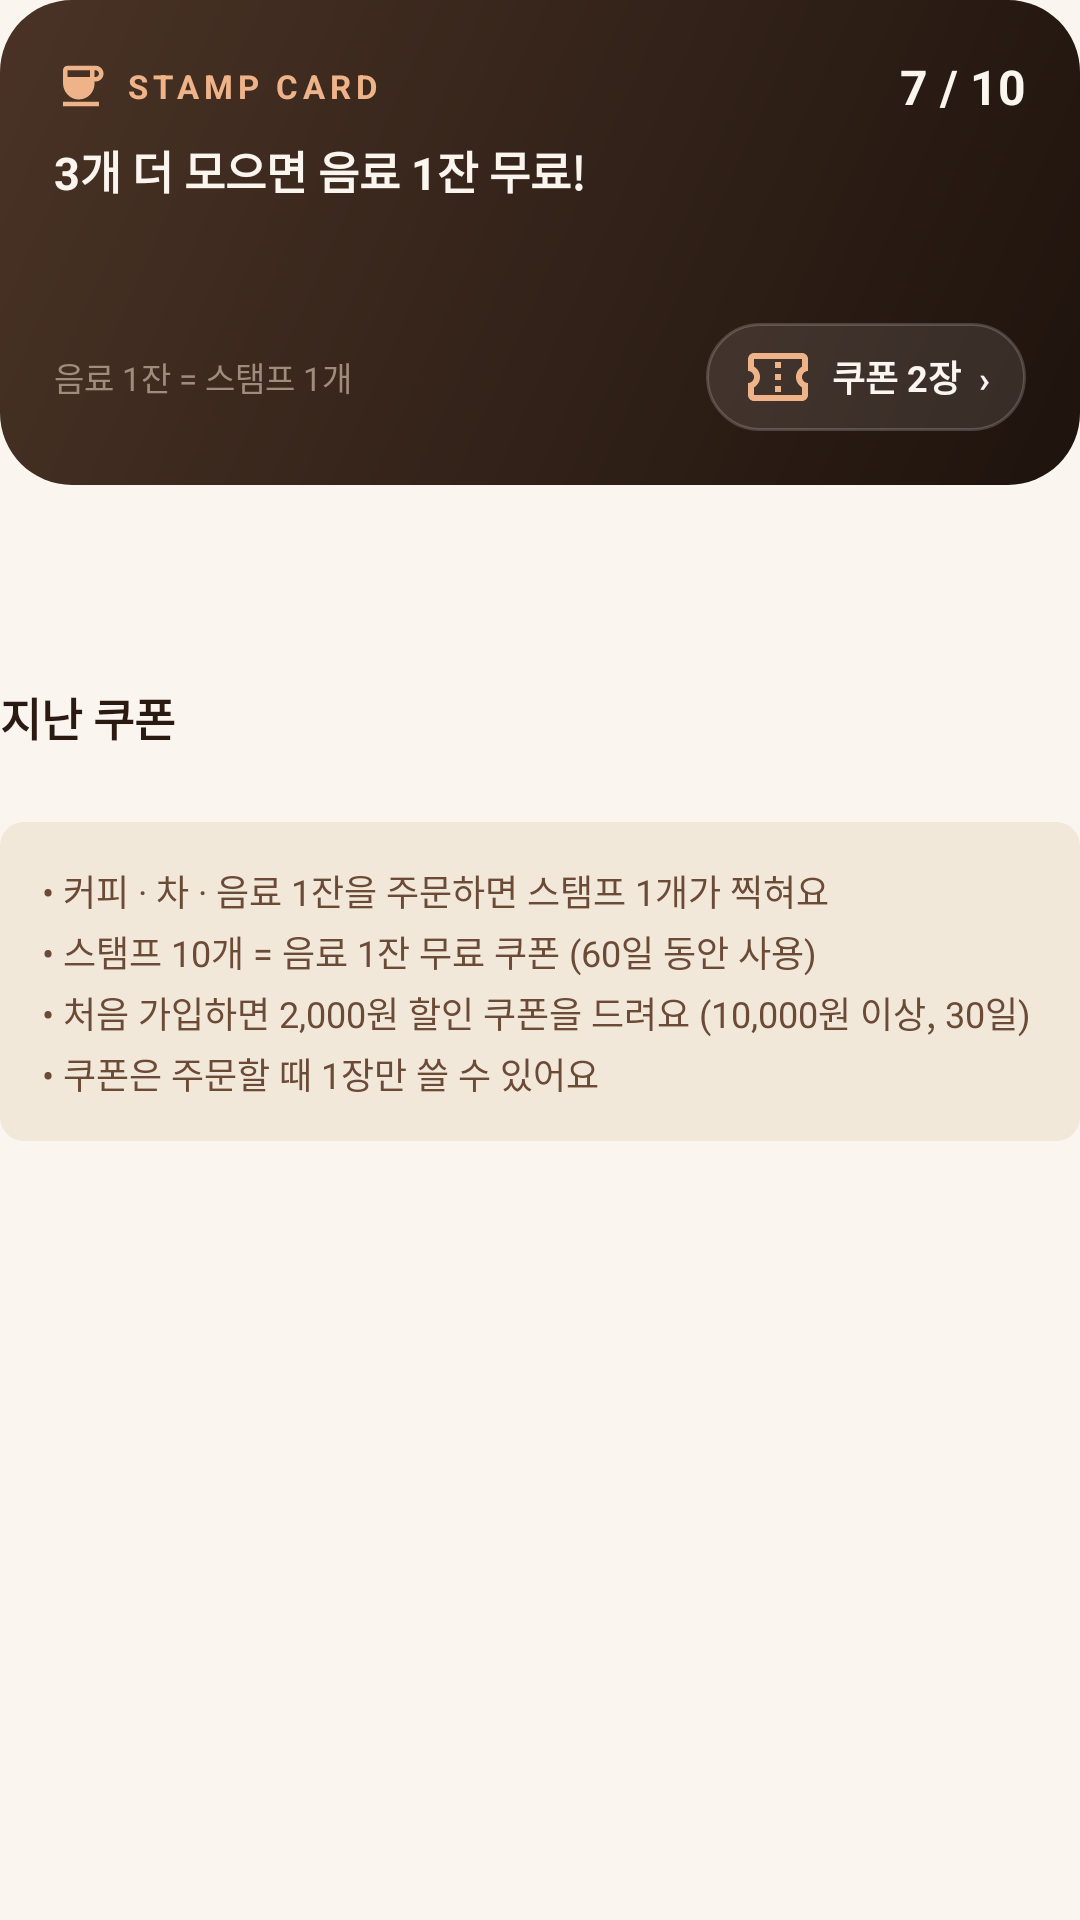

Screen size 1080x1920. Icon name, then its center in pixels as [x,y]:
coffee: [83,86]
